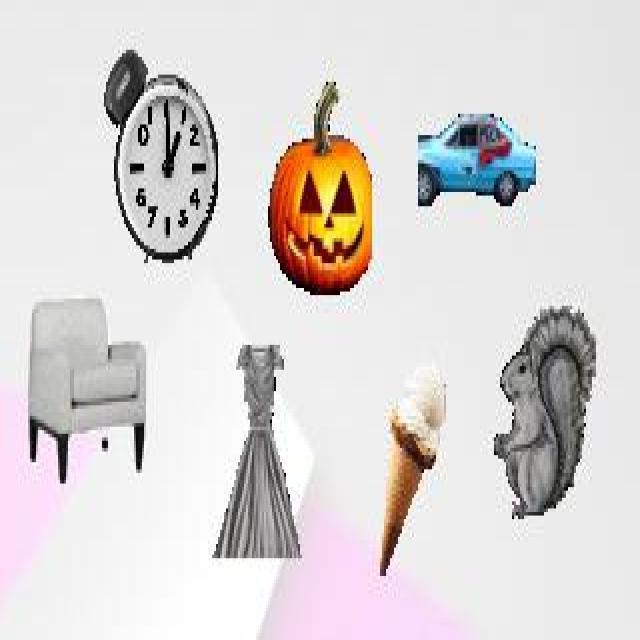Other Objects: (103, 49, 220, 265), (210, 343, 302, 563)
